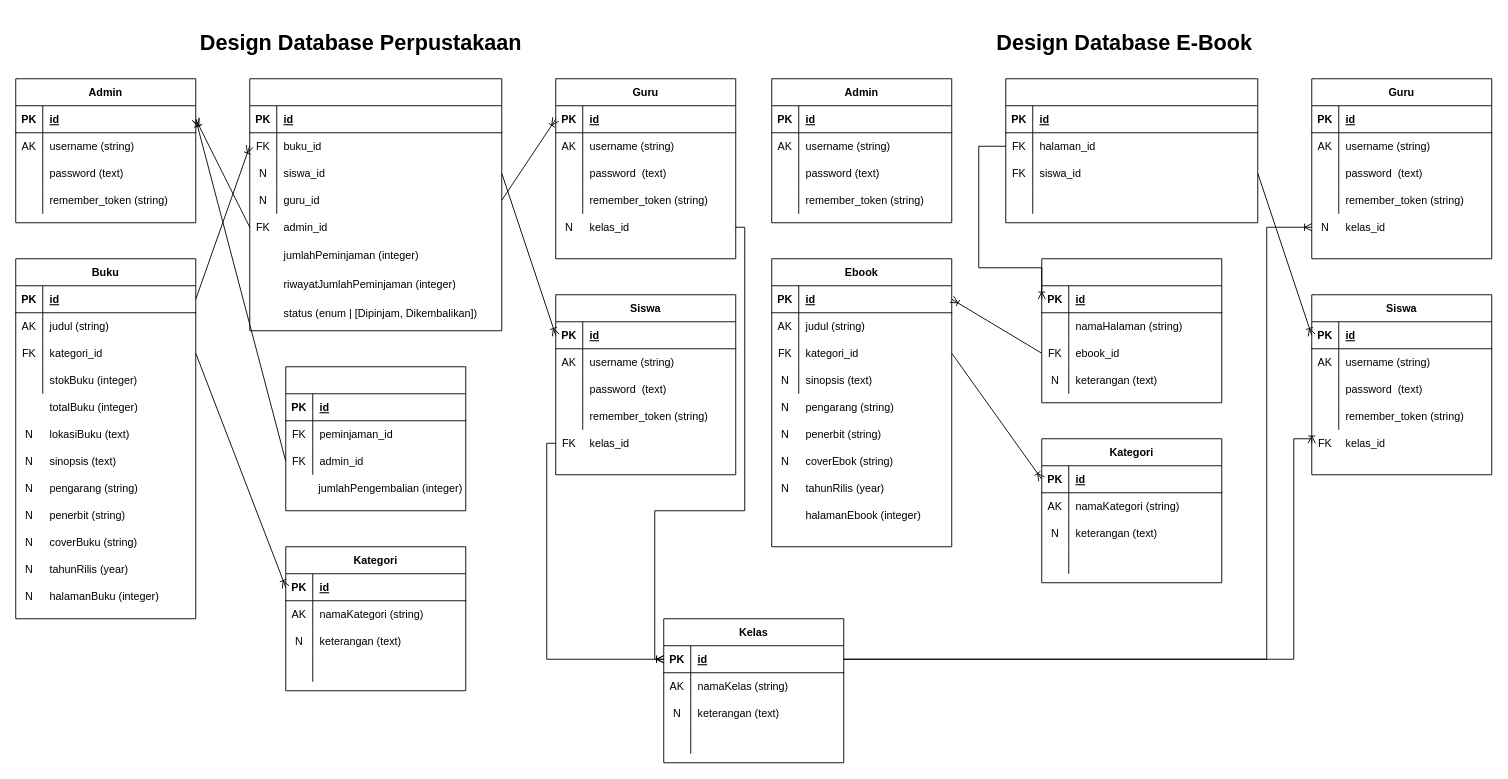
Some shapes in this 1508 by 779 pixel diagram are drawn without their labels. Here are the shapes that lost their labels. From the top down, the box of each, then its label:
(1005, 78, 1258, 223): BacaanEbook
(249, 78, 502, 331): PeminjamanBuku
(1041, 258, 1222, 403): HalamanEbook
(285, 366, 466, 511): PengembalianBuku
